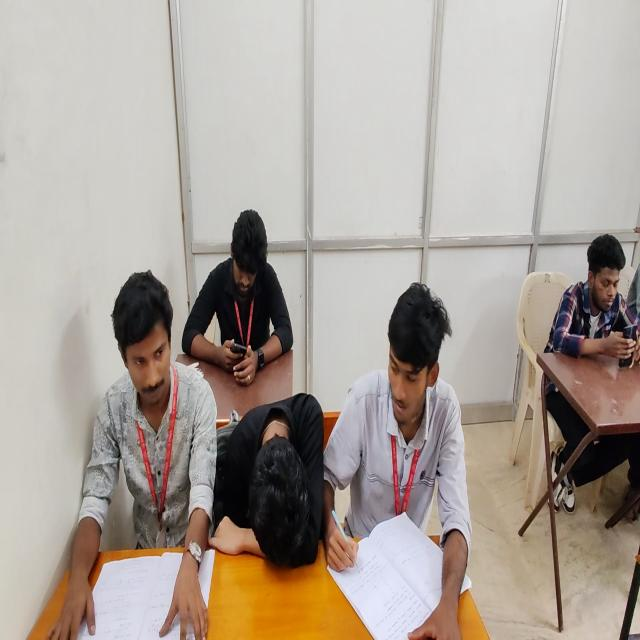reading: (46, 268, 219, 640)
sleeping: (202, 388, 322, 601)
turning: (338, 279, 474, 640)
using_mobile: (540, 230, 639, 522), (181, 208, 295, 384)
